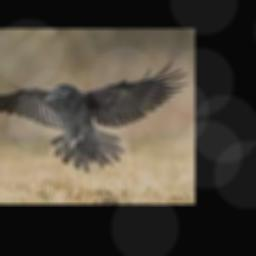Crow: (0, 60, 188, 171)
